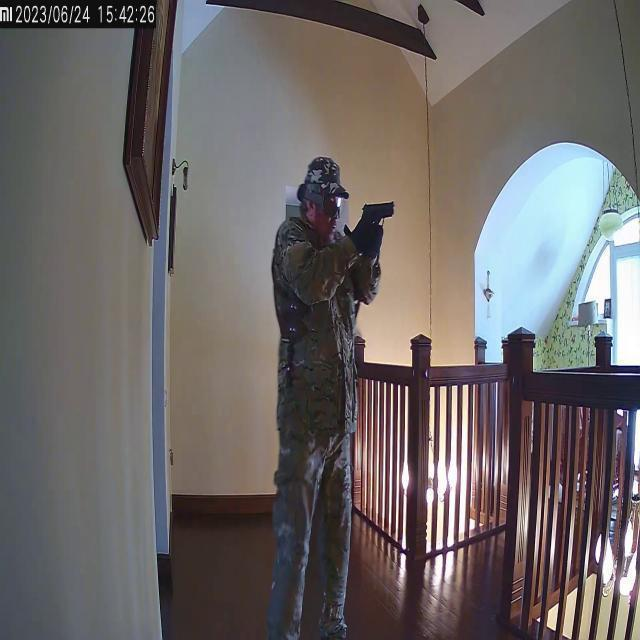pistol: (362, 198, 398, 244)
